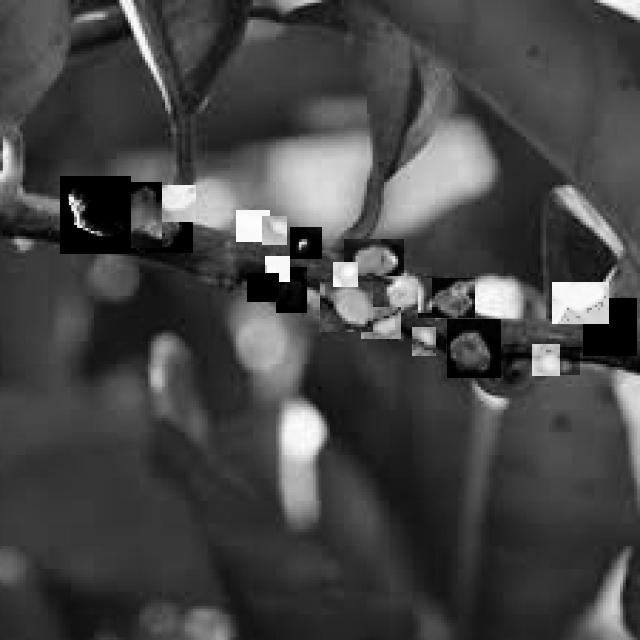scale_insect: (60, 176, 131, 254), (108, 182, 162, 248), (446, 319, 501, 378), (583, 298, 637, 356), (318, 282, 372, 332), (552, 282, 609, 324), (418, 278, 475, 318), (344, 239, 404, 276), (384, 267, 432, 313), (145, 208, 193, 253), (151, 185, 196, 222), (276, 267, 307, 313), (361, 307, 401, 339), (236, 210, 270, 242), (290, 227, 322, 259), (247, 273, 279, 302), (532, 344, 560, 376), (262, 216, 287, 245), (555, 347, 580, 375), (412, 327, 436, 356), (265, 256, 290, 282), (333, 262, 358, 287)
